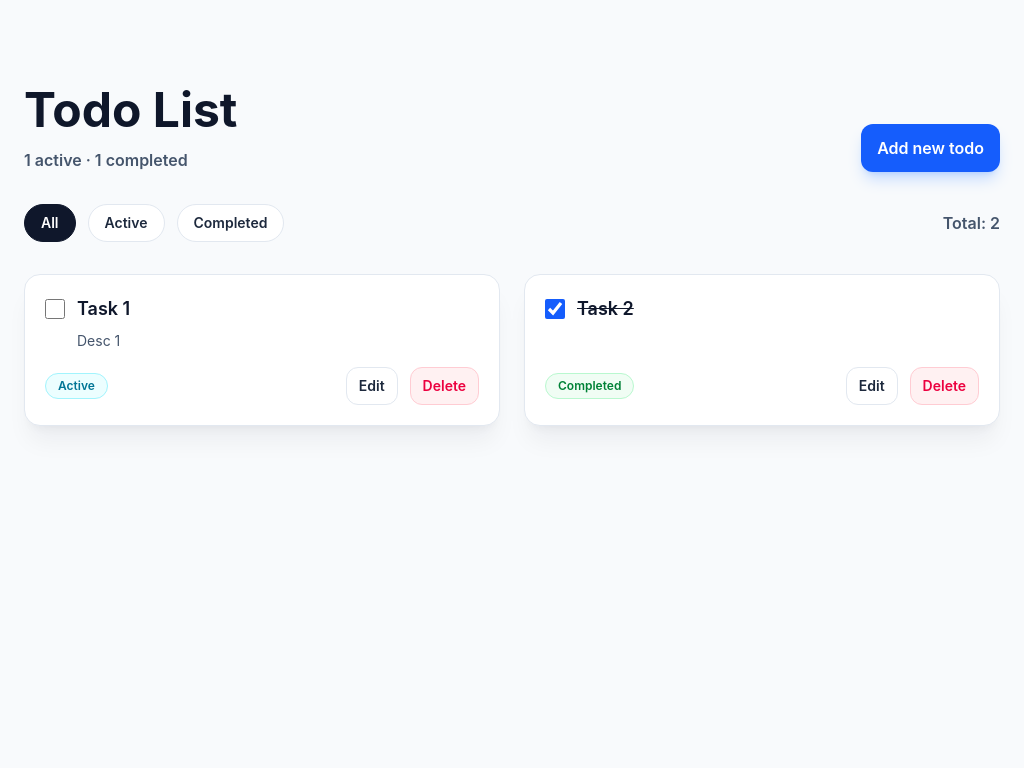
Test case: TodoList › should show modal when add new todo button is clicked
Expected: the heading "Task 1" is shown, [77, 298, 130, 319]
Click the button "Add new todo": click(931, 148) [861, 124, 1000, 172]
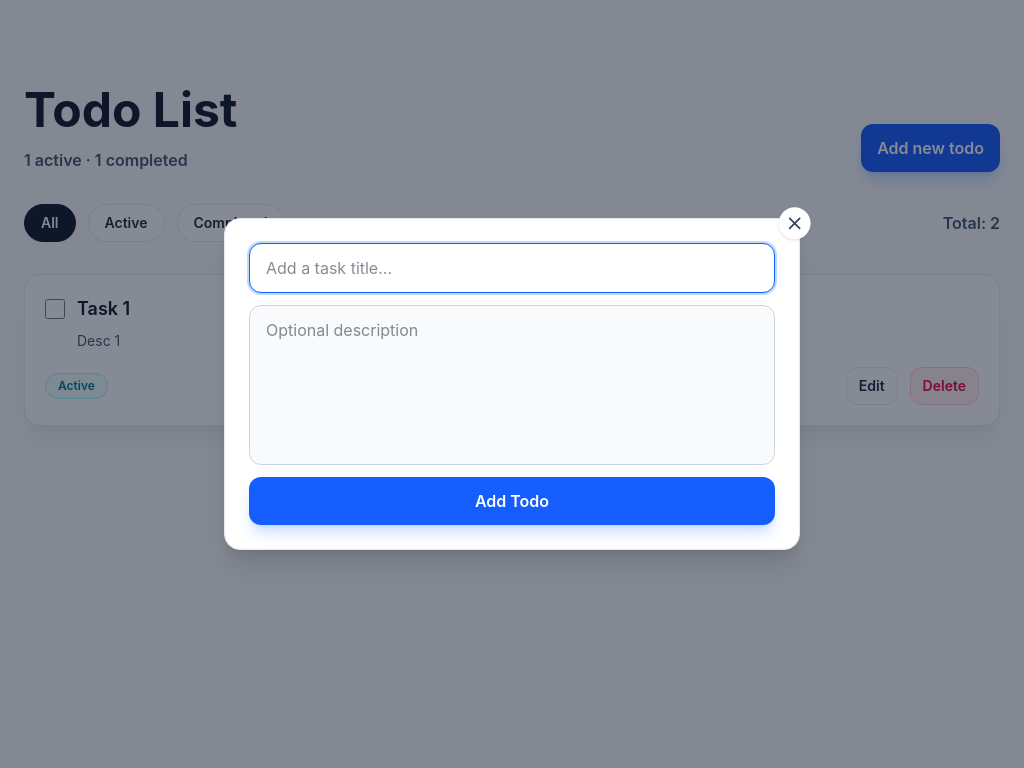
Expected: the field with placeholder "Add a task title..." is shown, [249, 243, 775, 293]
